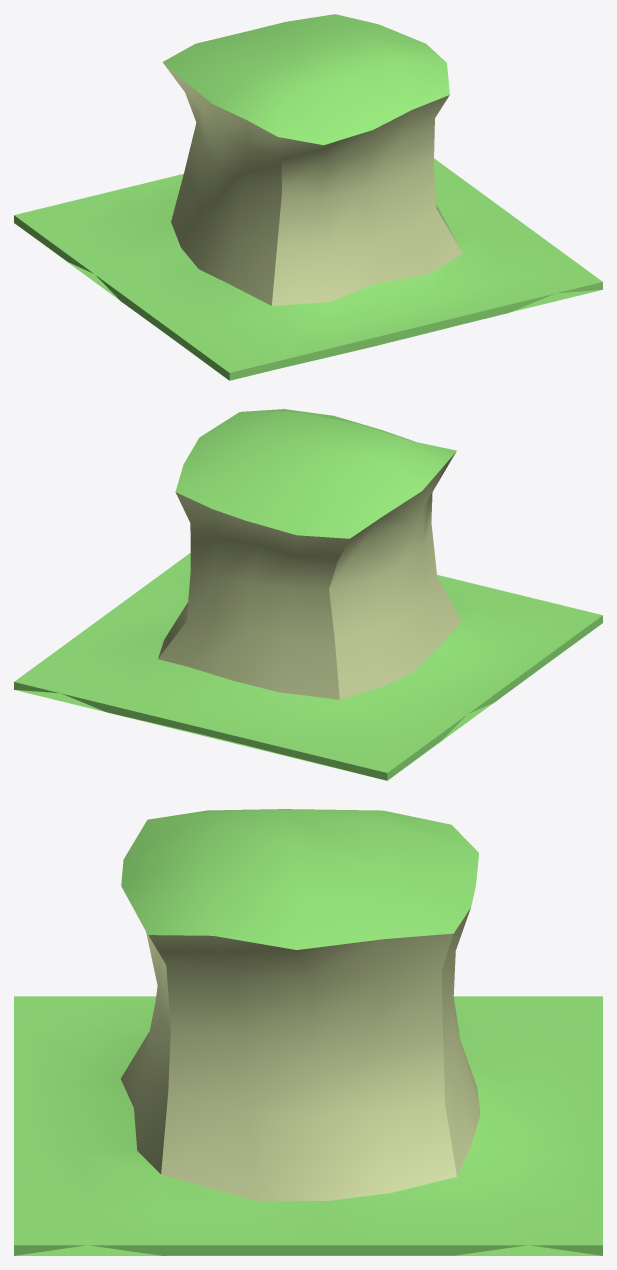
File: wall_slim_single_1.glb
3 views of the same model, one above another, from view 1: azimuth 30°, elevation 25°; view 2: azimuth 150°, elevation 25°; view 3: azimuth 270°, elevation 25° (orthographic). The views are drawn at different scales.
Parts seen in each view (by area): view 1: wall_slim_single_1; view 2: wall_slim_single_1; view 3: wall_slim_single_1.
Part boxes in pixels (x1,y1,x2,y2): wall_slim_single_1: [14, 14, 602, 380]; wall_slim_single_1: [14, 409, 602, 780]; wall_slim_single_1: [14, 809, 602, 1255].
Size of the model in its own units: 2 by 1.06 by 2.
